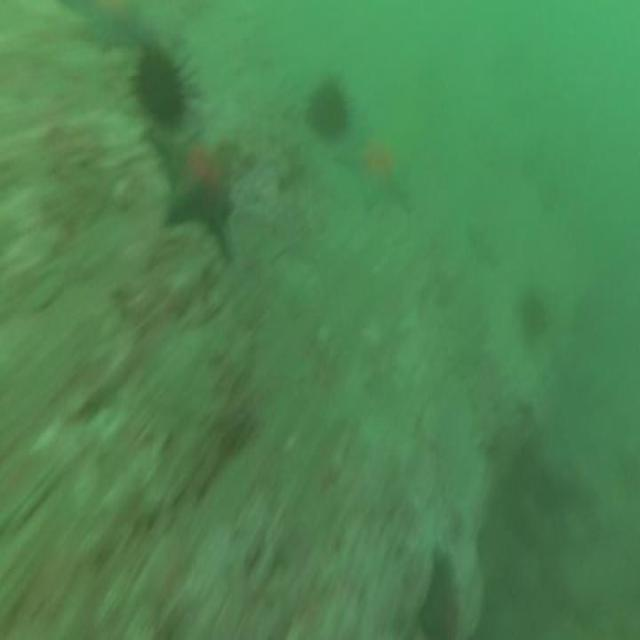echinus: (126, 31, 201, 138), (303, 69, 354, 147), (516, 283, 554, 352)
starfish: (157, 128, 243, 270), (337, 119, 413, 218), (66, 0, 144, 58)
